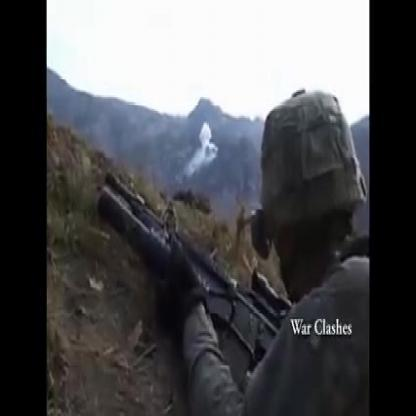Gun: (81, 126, 297, 404)
